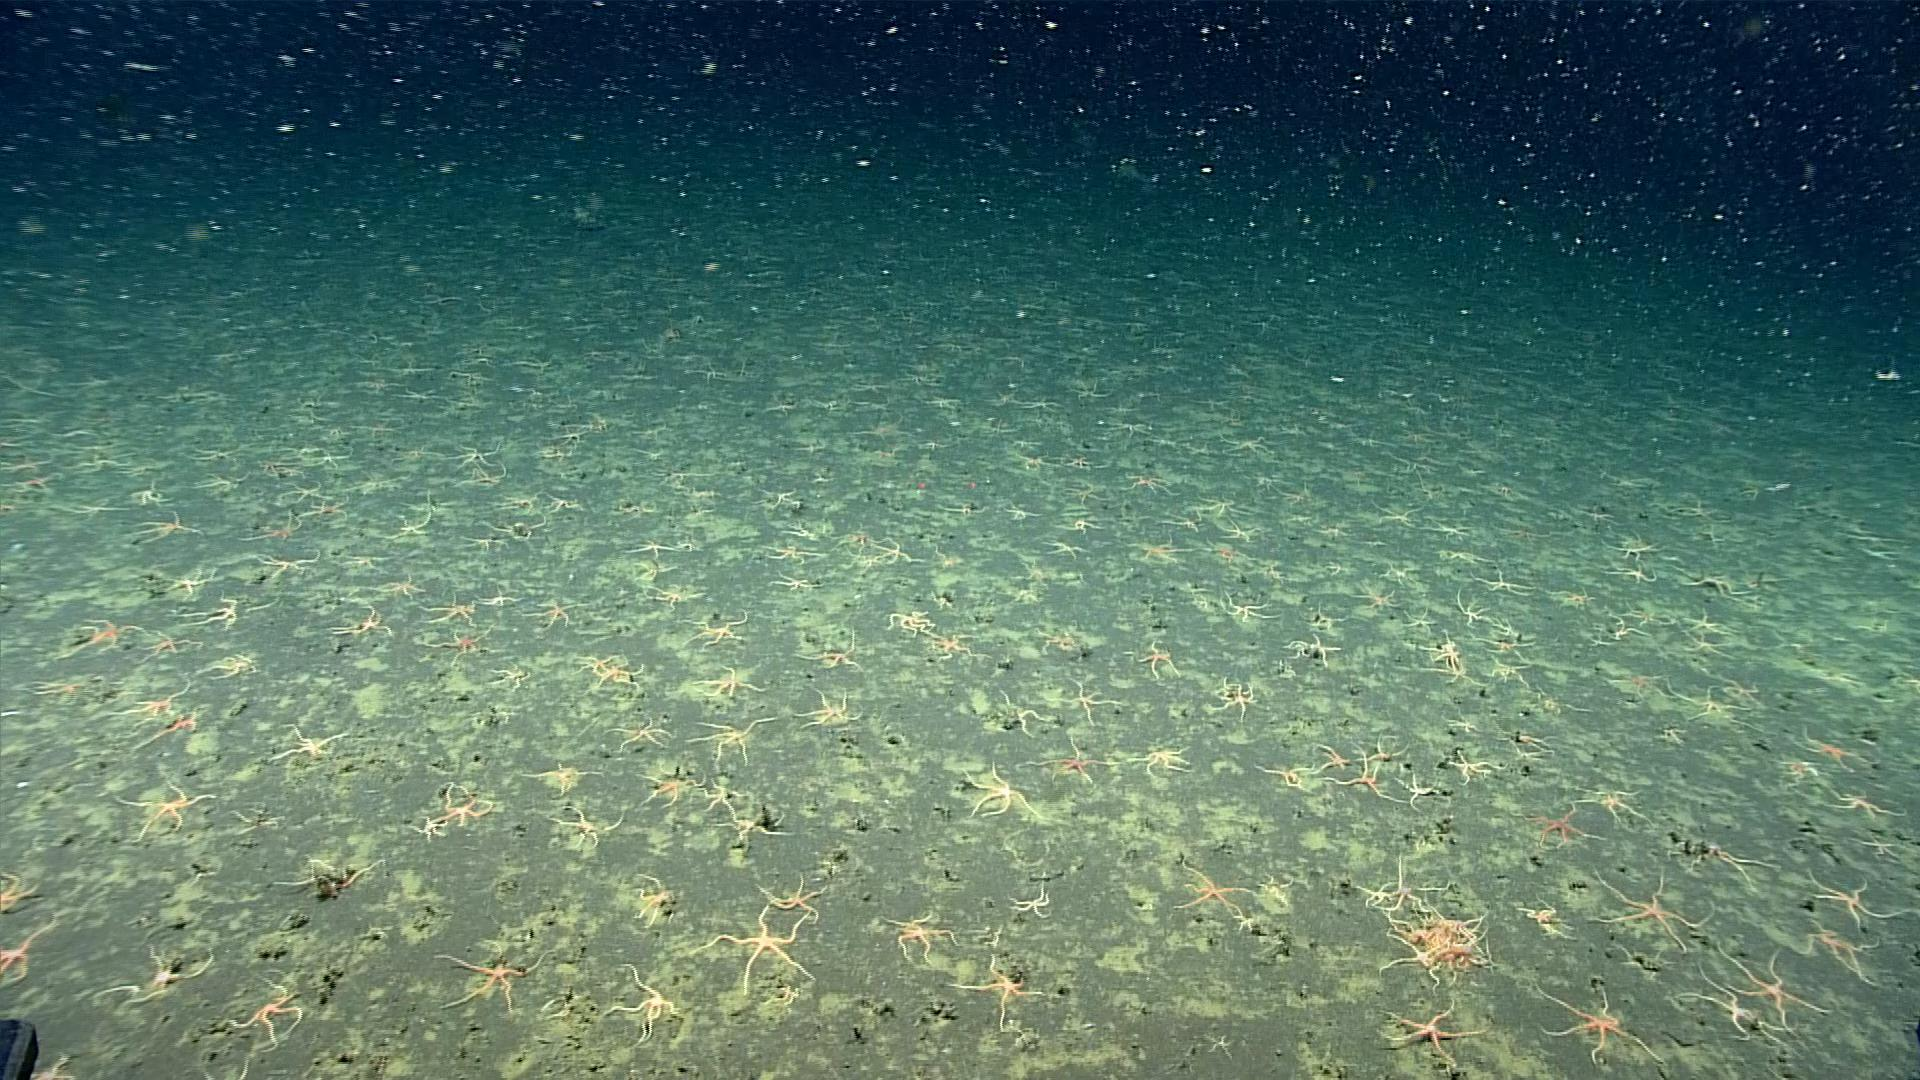brittle_sea_star: (692, 916, 833, 1004), (1717, 943, 1840, 1040), (1540, 985, 1668, 1065), (1594, 874, 1720, 953), (430, 943, 550, 1021), (1681, 969, 1797, 1050), (88, 940, 216, 1011), (1379, 990, 1482, 1064), (951, 959, 1047, 1035), (599, 967, 676, 1052), (218, 978, 305, 1054), (112, 782, 219, 841), (1677, 840, 1783, 895), (1029, 735, 1120, 794), (1809, 931, 1892, 996), (957, 762, 1044, 823), (1811, 873, 1895, 935), (276, 855, 382, 902), (1168, 858, 1258, 914), (0, 906, 58, 990), (684, 717, 778, 769), (1667, 678, 1755, 731), (1325, 754, 1410, 808), (1519, 804, 1613, 851), (61, 616, 148, 665), (265, 721, 349, 771), (1378, 926, 1443, 989), (1383, 855, 1452, 913), (761, 878, 835, 928), (886, 915, 960, 964), (18, 1039, 107, 1079), (1051, 680, 1120, 731), (550, 806, 624, 852), (427, 626, 505, 670), (1581, 786, 1656, 829), (112, 682, 194, 721), (633, 761, 703, 807), (682, 608, 752, 654), (1799, 733, 1874, 775), (237, 510, 315, 550), (132, 715, 198, 761), (795, 691, 868, 732), (799, 633, 866, 676), (698, 662, 767, 703), (990, 690, 1046, 738), (625, 876, 673, 930), (521, 765, 599, 798), (580, 655, 646, 694), (248, 551, 323, 584), (604, 720, 675, 754), (136, 512, 204, 547), (520, 599, 589, 633), (1006, 877, 1056, 924), (1211, 678, 1261, 725), (1833, 795, 1908, 827), (724, 816, 790, 852), (1520, 895, 1567, 945), (1121, 742, 1191, 775), (1354, 737, 1416, 773), (440, 783, 493, 824), (225, 1039, 278, 1079), (473, 516, 549, 543), (181, 600, 241, 634), (1218, 592, 1279, 626), (1126, 641, 1180, 679), (1680, 570, 1751, 599), (330, 611, 394, 642), (926, 634, 990, 666), (1131, 537, 1196, 568), (418, 599, 480, 632), (1253, 758, 1315, 791), (1474, 566, 1532, 600), (1448, 749, 1498, 789), (1286, 633, 1341, 669), (161, 567, 223, 599), (1398, 773, 1447, 812), (144, 632, 202, 665), (203, 655, 265, 686), (1606, 533, 1663, 566), (1452, 596, 1502, 633), (0, 868, 42, 911), (36, 680, 96, 709), (709, 785, 752, 825), (889, 612, 939, 646), (1349, 583, 1403, 615), (389, 508, 435, 545), (758, 546, 829, 568), (1489, 658, 1539, 690), (376, 576, 435, 603), (872, 539, 920, 571), (1423, 661, 1478, 688), (622, 539, 683, 564), (1309, 745, 1356, 777), (1482, 636, 1538, 662), (1120, 472, 1174, 498), (446, 446, 502, 471), (1418, 634, 1466, 663), (299, 498, 352, 525), (276, 481, 326, 509), (1354, 876, 1398, 907), (653, 587, 707, 612), (1602, 566, 1662, 588), (1039, 633, 1083, 663), (1853, 837, 1908, 861), (1197, 495, 1251, 518), (766, 574, 823, 596), (1215, 520, 1265, 545), (1377, 508, 1422, 535), (1305, 605, 1345, 636), (1687, 634, 1731, 661), (1399, 608, 1439, 637), (1163, 512, 1208, 535), (1428, 521, 1473, 545), (1513, 731, 1555, 756), (542, 495, 585, 518), (1441, 550, 1490, 571), (1552, 588, 1593, 613), (409, 816, 448, 840), (1689, 613, 1725, 638), (1201, 1029, 1238, 1052), (1047, 542, 1088, 563), (1606, 622, 1647, 644), (1383, 562, 1418, 585), (1005, 506, 1043, 526), (1655, 727, 1691, 748), (1067, 518, 1104, 535), (1325, 558, 1353, 580), (1664, 612, 1689, 636), (1493, 621, 1526, 637)
